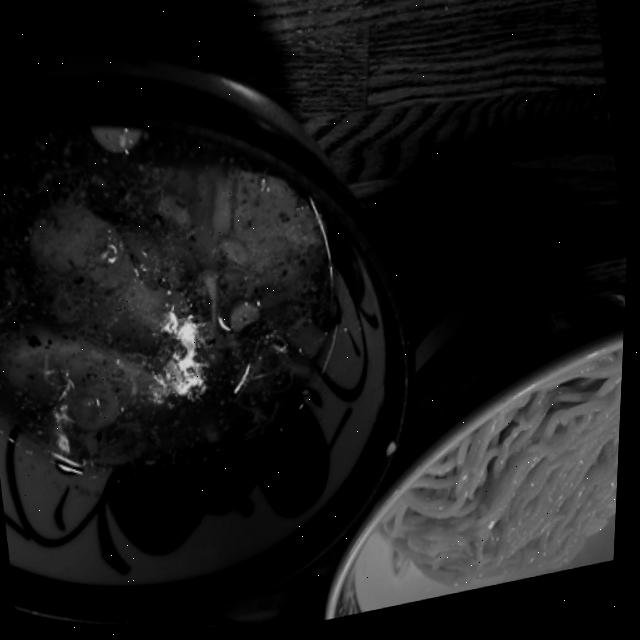面条主食: (0, 6, 639, 640)
